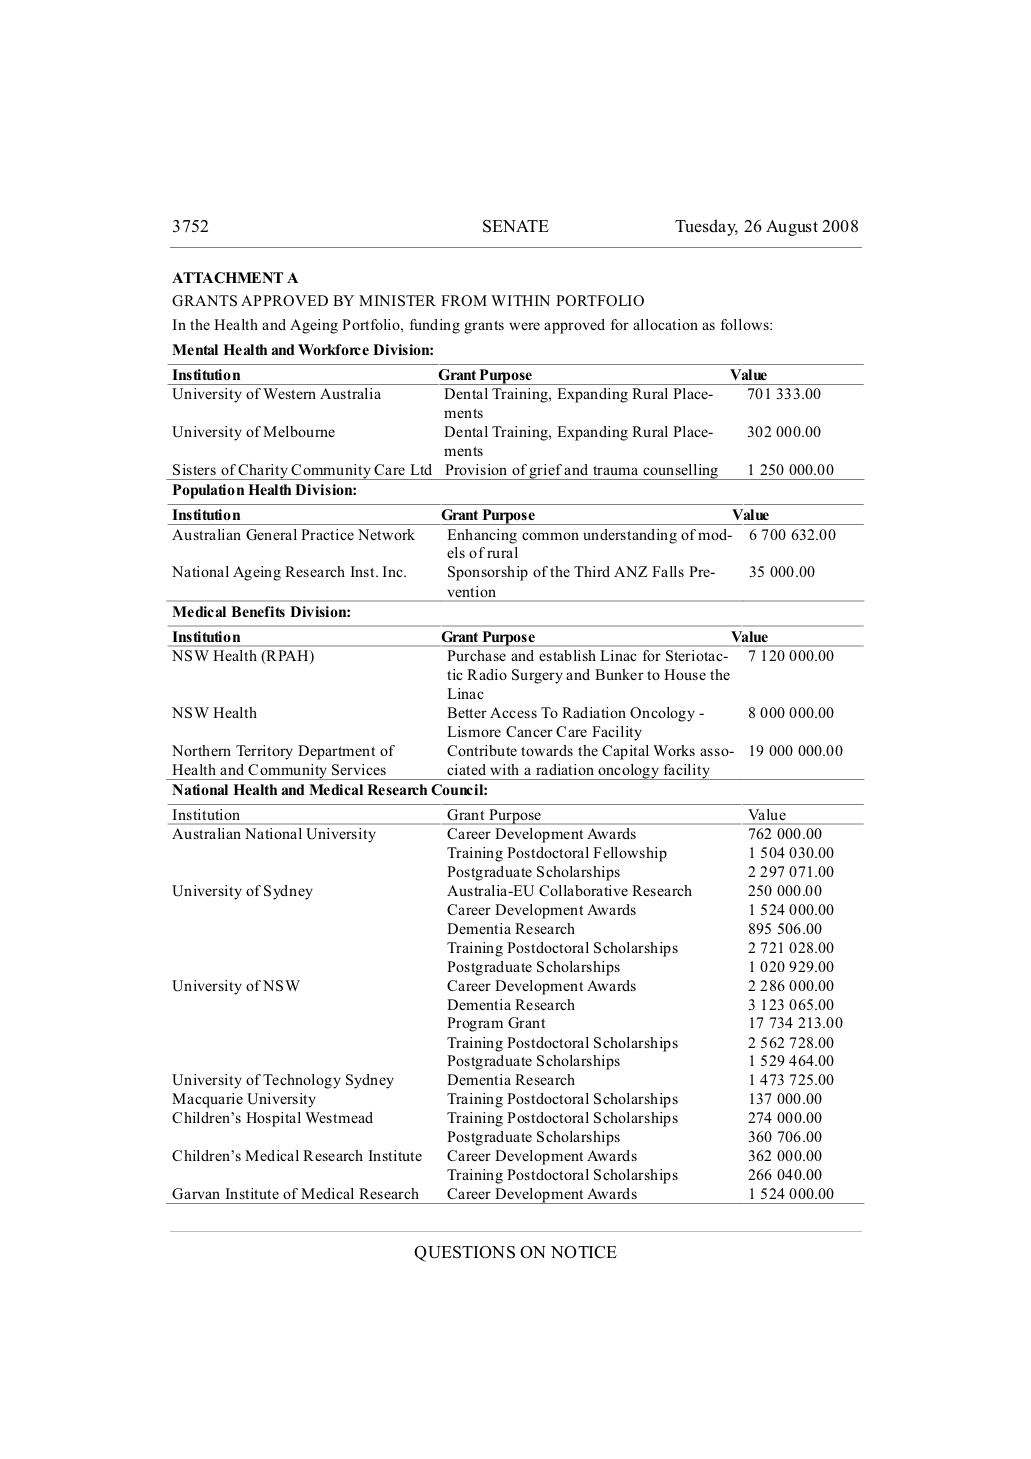Table: (166, 804, 864, 1202), (166, 625, 864, 779), (166, 364, 864, 479), (166, 504, 864, 601)
